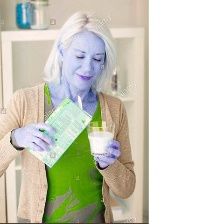carton: (25, 95, 93, 170)
glass: (86, 118, 118, 159), (26, 0, 52, 30), (12, 0, 35, 32)
